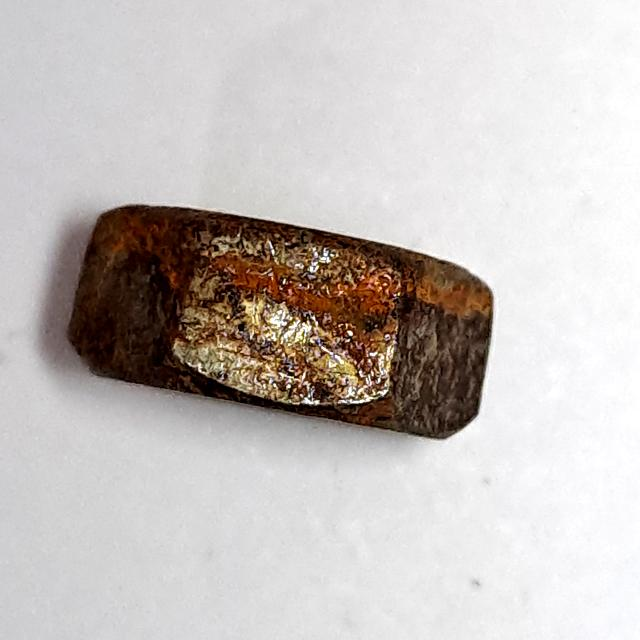Side_Rust: (53, 186, 511, 463)
